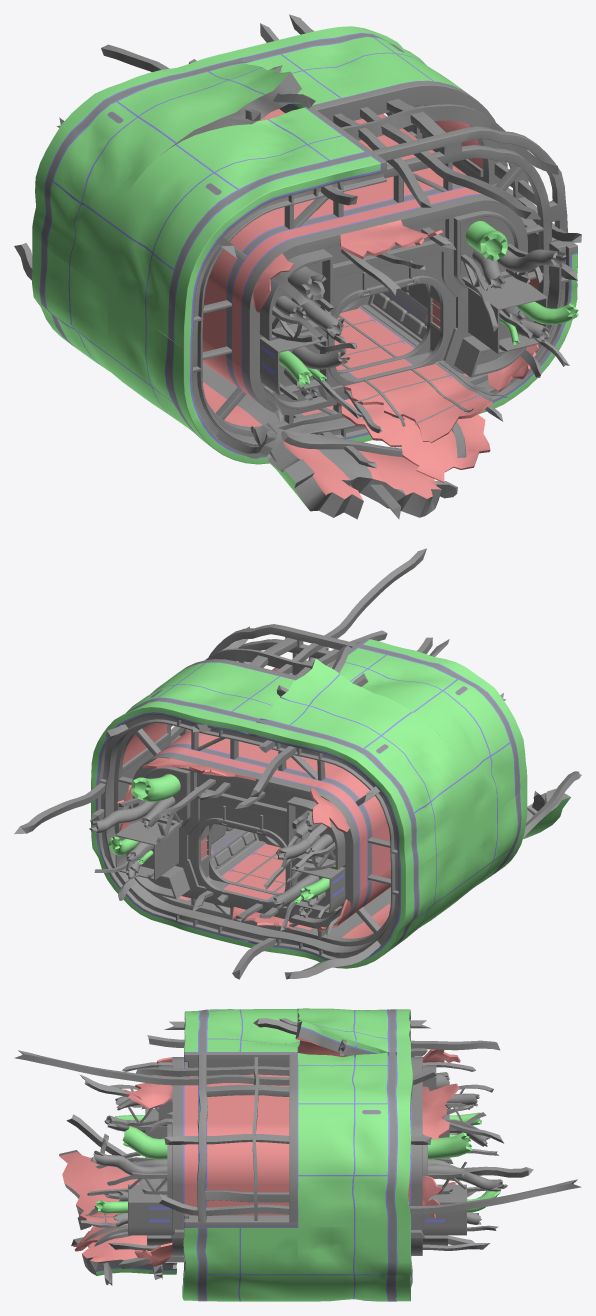
File: SM_DamagedShip05.gltf
3 views of the same model, one above another, from view 1: azimuth 30°, elevation 25°; view 2: azimuth 150°, elevation 25°; view 3: azimuth 270°, elevation 25° (orthographic). The views are drawn at different scales.
Parts seen in each view (by area): view 1: SM_DamagedShip05; view 2: SM_DamagedShip05; view 3: SM_DamagedShip05.
Boxes of the visible parts, <box> form: SM_DamagedShip05: <box>14,14,581,519</box>; SM_DamagedShip05: <box>14,548,581,979</box>; SM_DamagedShip05: <box>14,1008,581,1301</box>.
Size of the model in its own units: 15.17 by 12.37 by 25.02.
